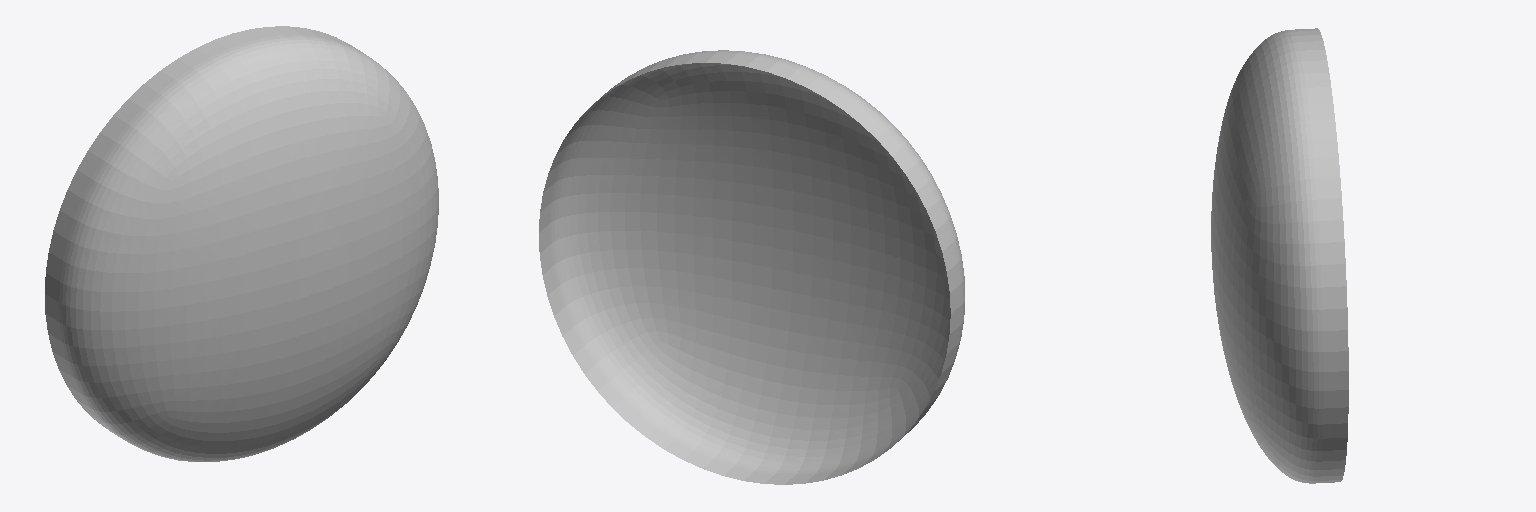
File: botonder.obj
The picture shows the model from 3 angles: view 1: azimuth 30°, elevation 25°; view 2: azimuth 150°, elevation 25°; view 3: azimuth 270°, elevation 25°; orthographic projection.
Parts seen in each view (by area): view 1: PinballNuevo:BotonDerecho_phong2SG_001; view 2: PinballNuevo:BotonDerecho_phong2SG_001; view 3: PinballNuevo:BotonDerecho_phong2SG_001.
Part boxes in pixels (bbox=[...]): PinballNuevo:BotonDerecho_phong2SG_001: bbox=[45, 26, 438, 461]; PinballNuevo:BotonDerecho_phong2SG_001: bbox=[539, 50, 964, 484]; PinballNuevo:BotonDerecho_phong2SG_001: bbox=[1211, 28, 1348, 483].
Bounding box in the file's own units: 0.8671 × 0.8666 × 0.2623.